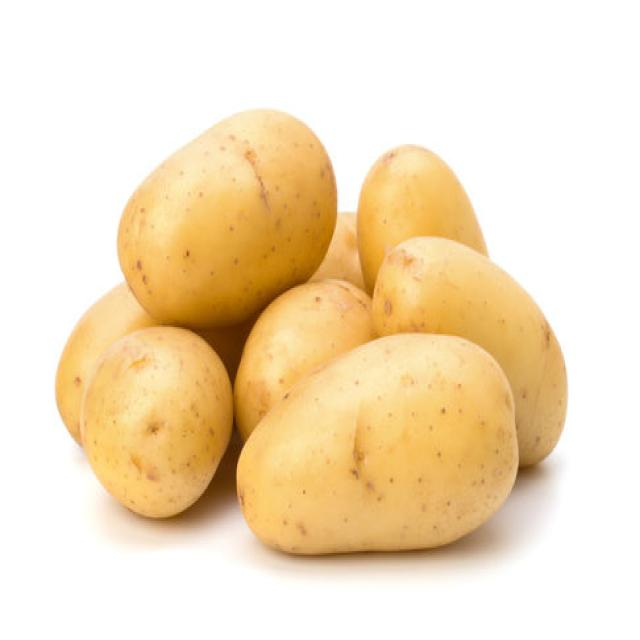Potato: (234, 330, 519, 554), (116, 105, 337, 327), (372, 235, 568, 468), (79, 324, 233, 519), (233, 277, 374, 443), (356, 142, 488, 294), (54, 279, 158, 446), (307, 210, 365, 290)
